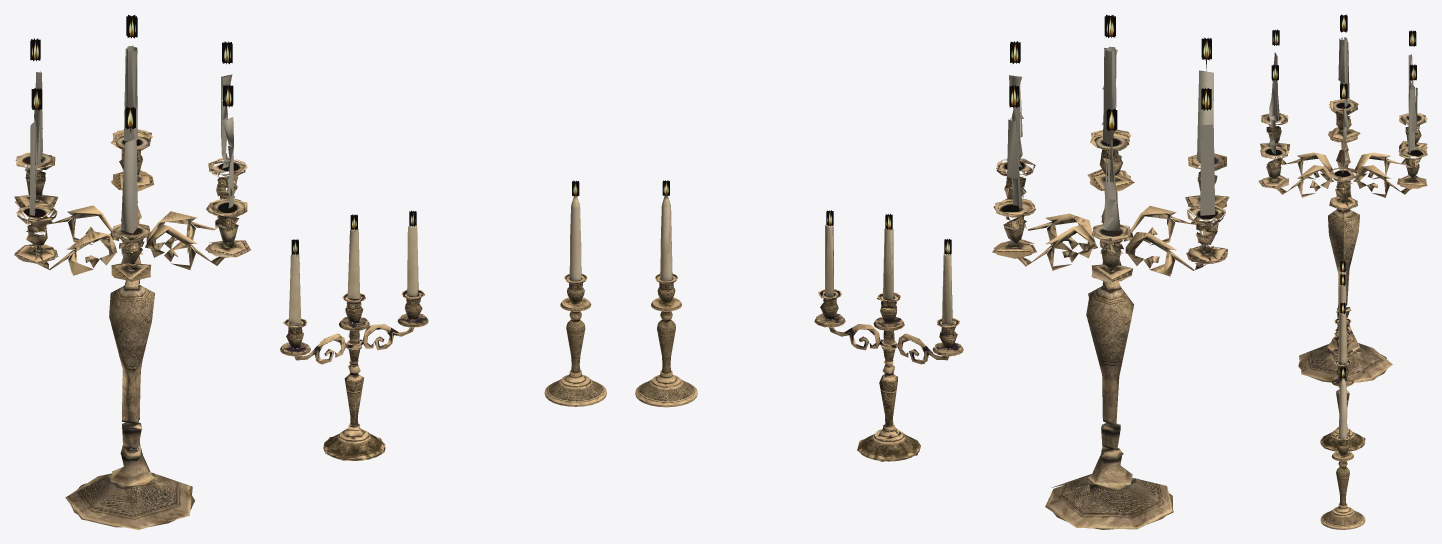
Rendered from brass_candleholders.glb.
The picture shows the model from 3 angles, left to right: view 1: azimuth 30°, elevation 25°; view 2: azimuth 150°, elevation 25°; view 3: azimuth 270°, elevation 25°; orthographic projection. The views are drawn at different scales.
Visible parts, largest first — view 1: brass_candleholder_03, brass_candleholder_02, brass_candleholder_01; view 2: brass_candleholder_03, brass_candleholder_02, brass_candleholder_01; view 3: brass_candleholder_03, brass_candleholder_01, brass_candleholder_02.
Boxes of the visible parts, box(x1,y1,x2,y2) form: brass_candleholder_03: box(14, 15, 250, 529); brass_candleholder_02: box(280, 210, 428, 460); brass_candleholder_01: box(544, 180, 606, 406); brass_candleholder_03: box(992, 14, 1229, 529); brass_candleholder_02: box(814, 210, 963, 461); brass_candleholder_01: box(635, 180, 697, 407); brass_candleholder_03: box(1258, 14, 1427, 382); brass_candleholder_01: box(1320, 367, 1365, 529); brass_candleholder_02: box(1320, 261, 1365, 451).
Size of the model in its own units: 1.05 by 0.8353 by 0.368.
5 materials, 5 textured.
